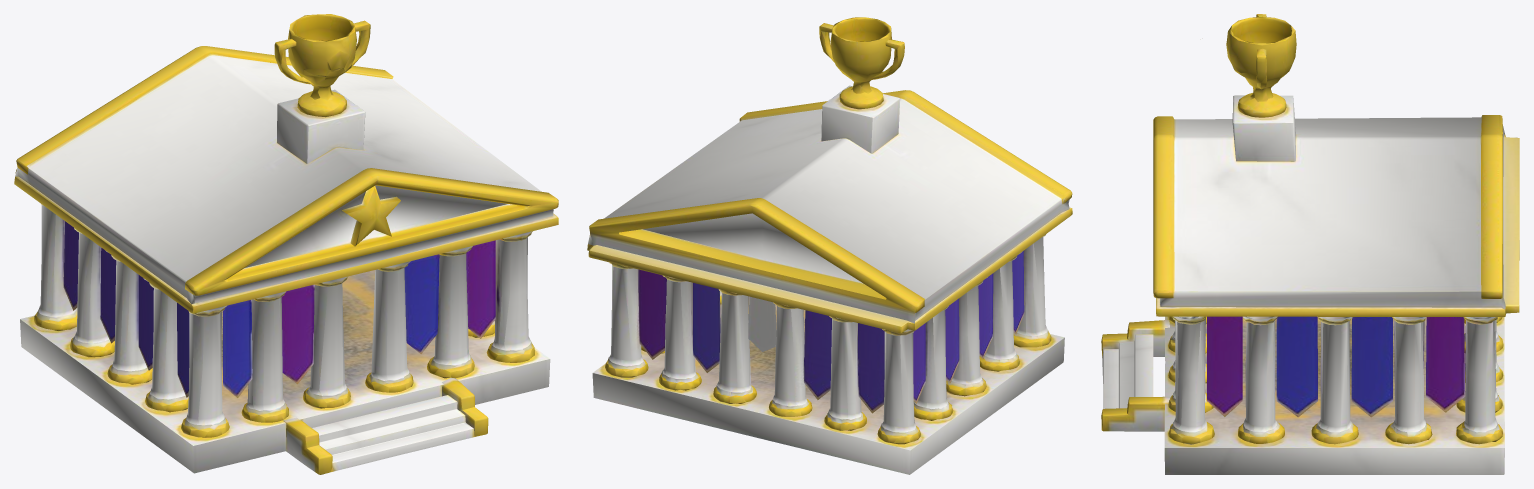
The model's file is leyendas_salon.glb.
3 renders of one model, left to right at view 1: azimuth 30°, elevation 25°; view 2: azimuth 150°, elevation 25°; view 3: azimuth 270°, elevation 25°, orthographic. The views are drawn at different scales.
Parts seen in each view (by area): view 1: tripo_node_d8499b5c-4a23-441b-9079-c3630f5d7be4; view 2: tripo_node_d8499b5c-4a23-441b-9079-c3630f5d7be4; view 3: tripo_node_d8499b5c-4a23-441b-9079-c3630f5d7be4.
Part boxes in pixels (x1,y1,x2,y2): tripo_node_d8499b5c-4a23-441b-9079-c3630f5d7be4: (14,14,558,474); tripo_node_d8499b5c-4a23-441b-9079-c3630f5d7be4: (587,17,1072,474); tripo_node_d8499b5c-4a23-441b-9079-c3630f5d7be4: (1101,14,1519,474).
Bounding box in the file's own units: 0.998 × 0.9497 × 0.9957.
Materials: 1 (1 with a texture image).
